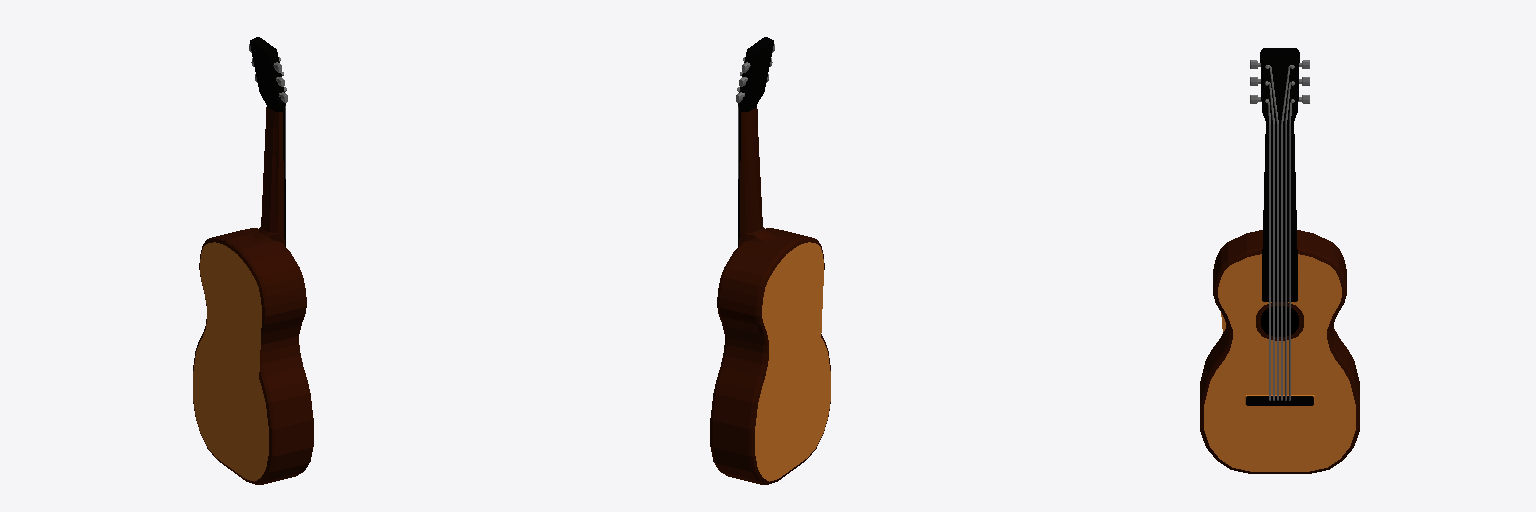
Rendered from guitar-2.obj.
The picture shows the model from 3 angles: view 1: azimuth 30°, elevation 25°; view 2: azimuth 150°, elevation 25°; view 3: azimuth 270°, elevation 25°; orthographic projection.
Parts seen in each view (by area): view 1: Body_Cube.001, Neck_Cylinder; view 2: Body_Cube.001, Neck_Cylinder; view 3: Body_Cube.001, Neck_Cylinder, Strings_Cylinder.005, TuningPins_Cylinder.002.
Part boxes in pixels (left/top/right/bottom): Body_Cube.001: left=193, top=228, right=313, bottom=484; Neck_Cylinder: left=248, top=37, right=285, bottom=246; Body_Cube.001: left=710, top=228, right=830, bottom=484; Neck_Cylinder: left=738, top=37, right=775, bottom=246; Body_Cube.001: left=1200, top=230, right=1359, bottom=473; Neck_Cylinder: left=1260, top=48, right=1299, bottom=301; Strings_Cylinder.005: left=1268, top=65, right=1291, bottom=400; TuningPins_Cylinder.002: left=1250, top=60, right=1309, bottom=103.
Size of the model in its own units: 0.1583 by 1.27 by 0.44.